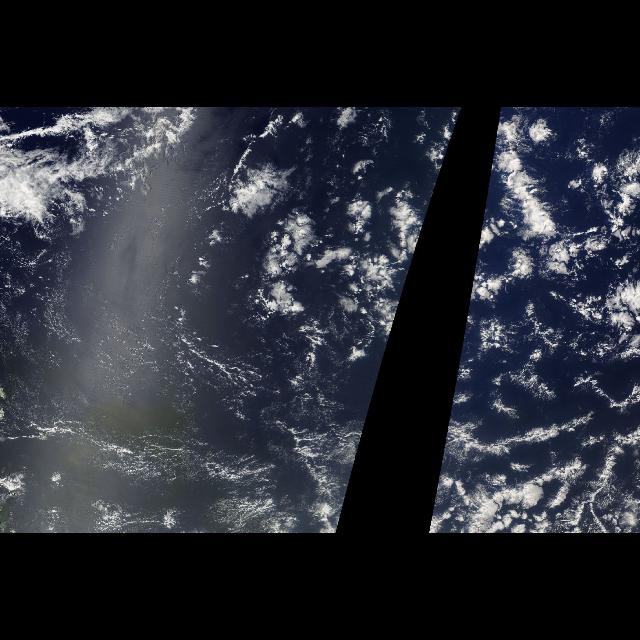Flower: (232, 120, 458, 364), (458, 120, 604, 364)
Gravel: (32, 281, 350, 464)
Sugar: (4, 250, 262, 530)
